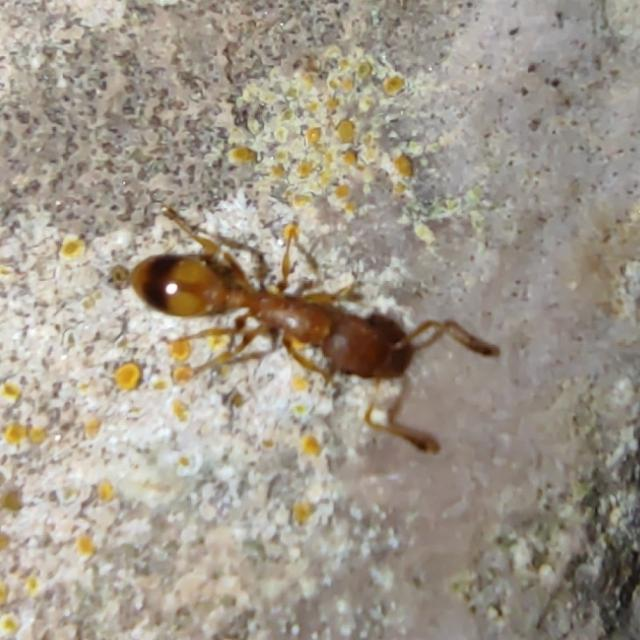Temnothorax: (105, 199, 495, 449)
